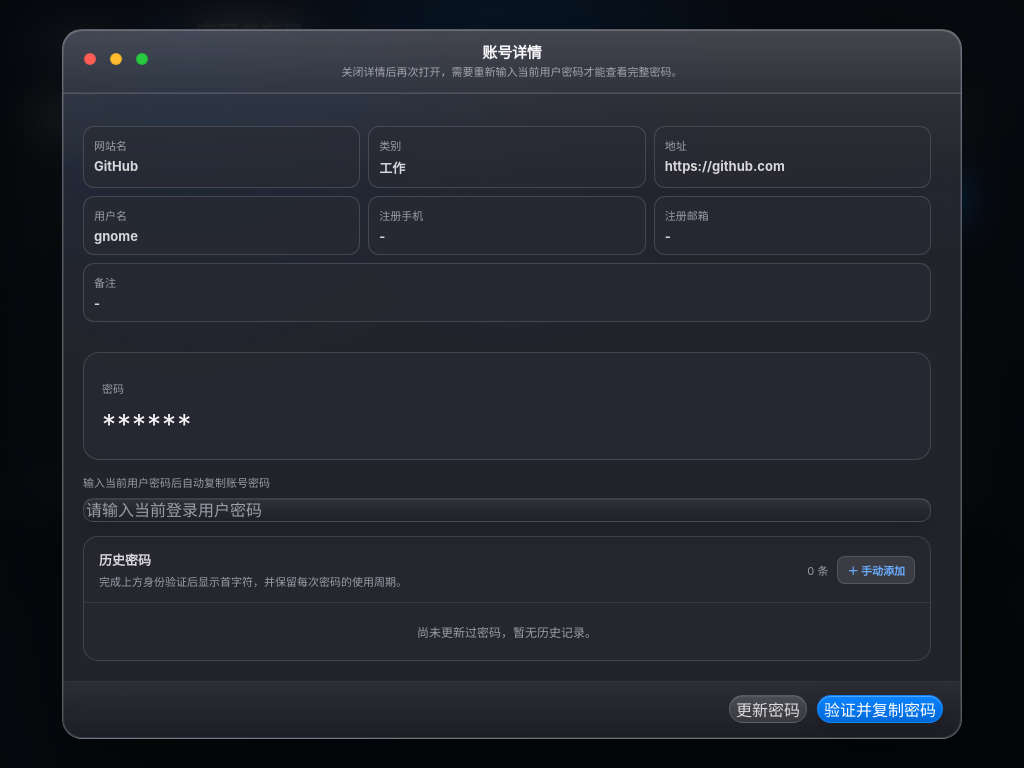
Test: PasswordMemo MacDialog integration › 校验成功后自动复制密码且页面仅保留首字符掩码
Type "login-password" into the password field labelled "输入当前用户密码后自动复制账号密码".
click(507, 510); type("login-password")  # box x1=83 y1=498 x2=931 y2=522
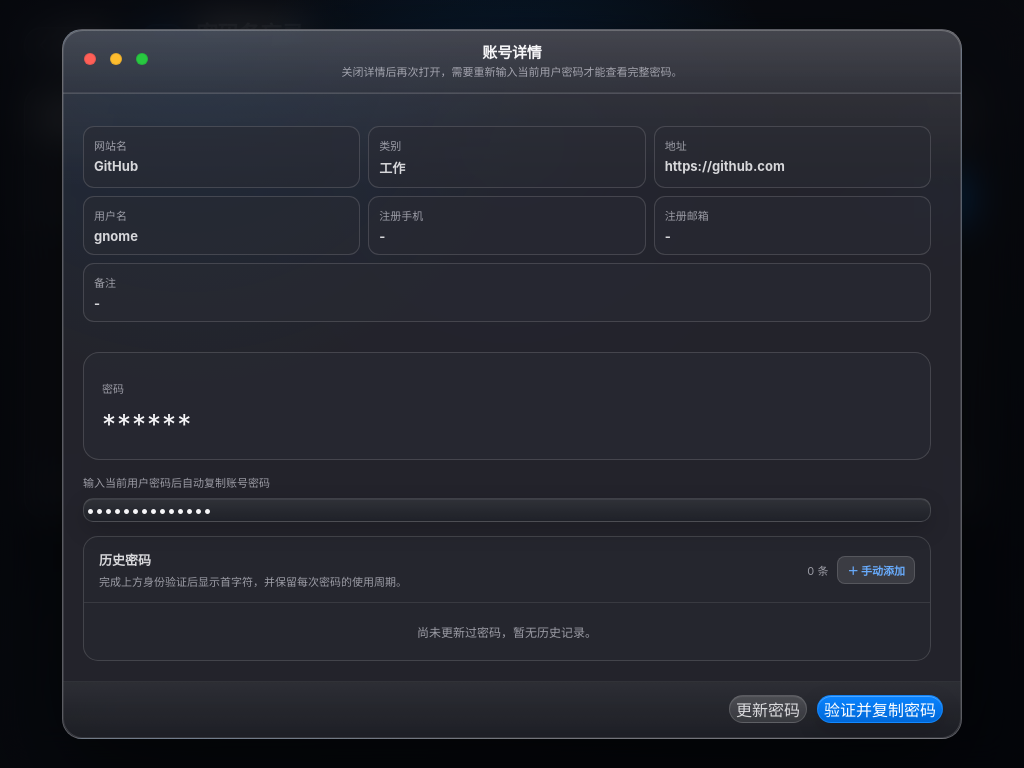
Click the button "验证并复制密码".
click(880, 709)  # box x1=817 y1=695 x2=943 y2=723
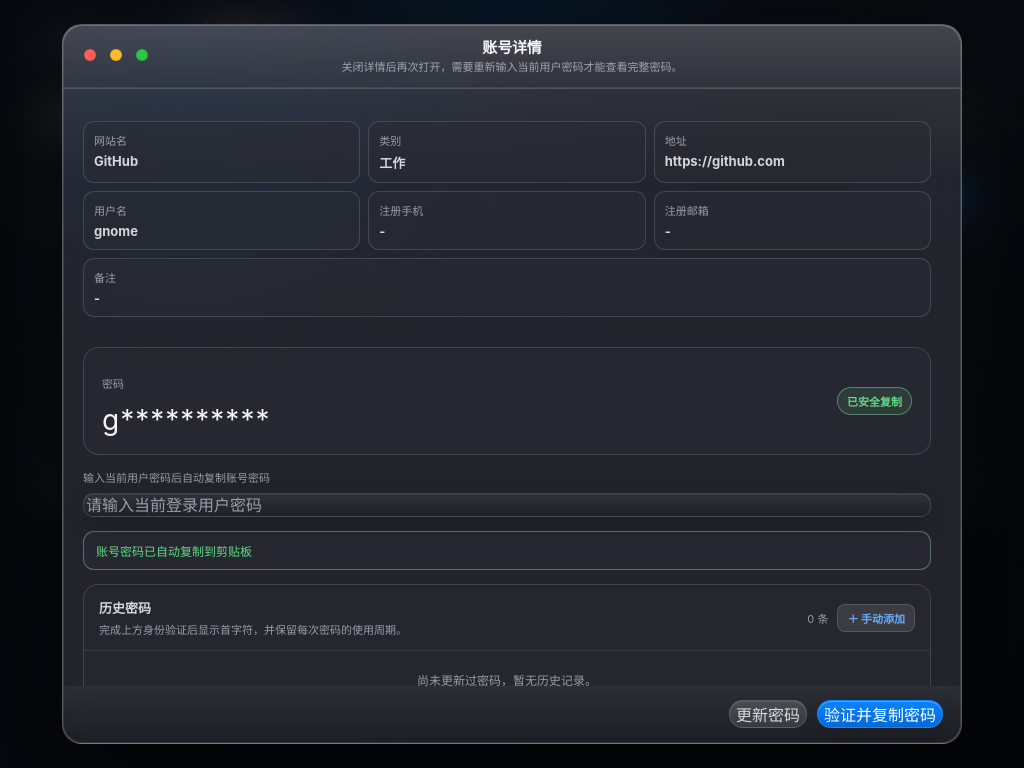
Now the dialog with class "mac-dialog-panel" shows "g**********", box x1=102 y1=403 x2=270 y2=437
Now the dialog with class "mac-dialog-panel" shows "账号密码已自动复制到剪贴板", box x1=96 y1=544 x2=252 y2=559
